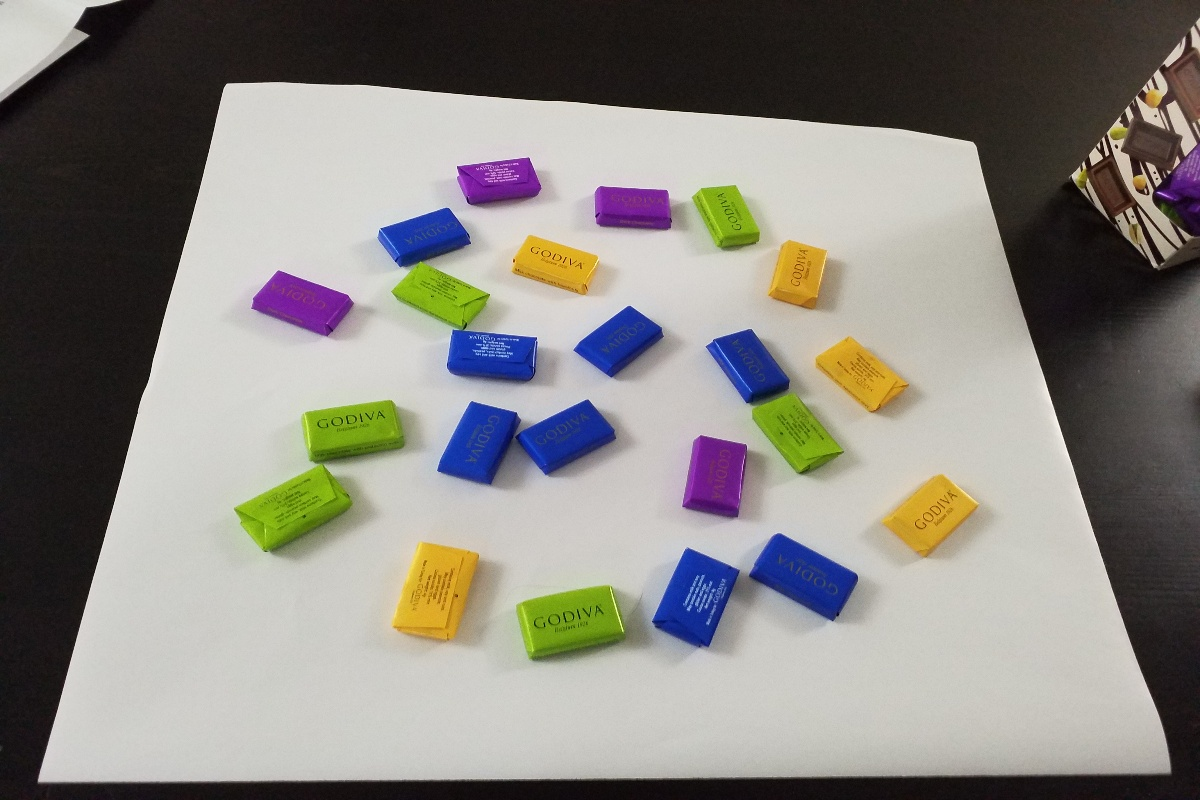chocolate_blue: (741, 527, 866, 627), (644, 538, 746, 659), (427, 393, 526, 496), (568, 302, 669, 387), (696, 323, 792, 406), (369, 200, 475, 270)
chocolate_green: (224, 460, 357, 550), (506, 578, 636, 665), (385, 257, 495, 337), (293, 400, 412, 463), (689, 178, 765, 254)
chocolate_purple: (243, 264, 359, 341), (675, 427, 756, 525), (588, 177, 683, 238), (452, 151, 546, 210)
chocolate_yellow: (382, 528, 486, 653), (809, 334, 919, 420), (881, 470, 983, 562), (507, 227, 605, 300), (766, 236, 829, 316)
